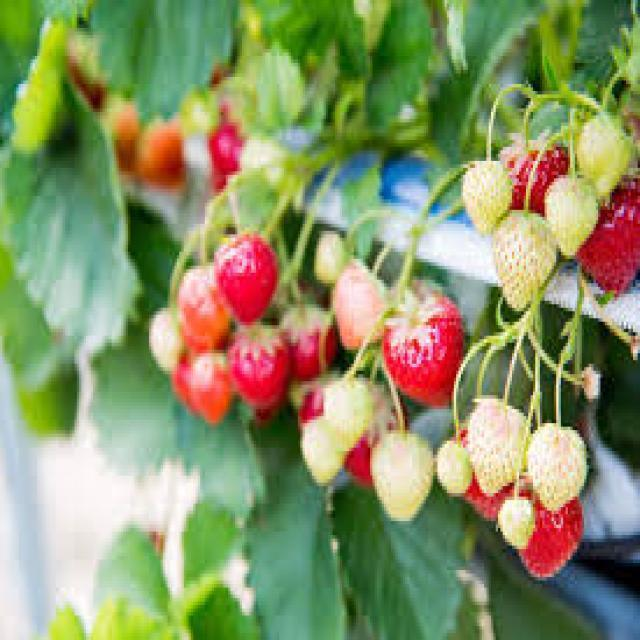Strawberry: (383, 287, 467, 393), (508, 475, 585, 578), (492, 212, 560, 312), (210, 232, 277, 328), (224, 322, 295, 411), (574, 188, 634, 292), (471, 392, 531, 494), (368, 430, 433, 520), (529, 420, 591, 503), (542, 175, 601, 255), (324, 378, 378, 453), (460, 159, 511, 229)
